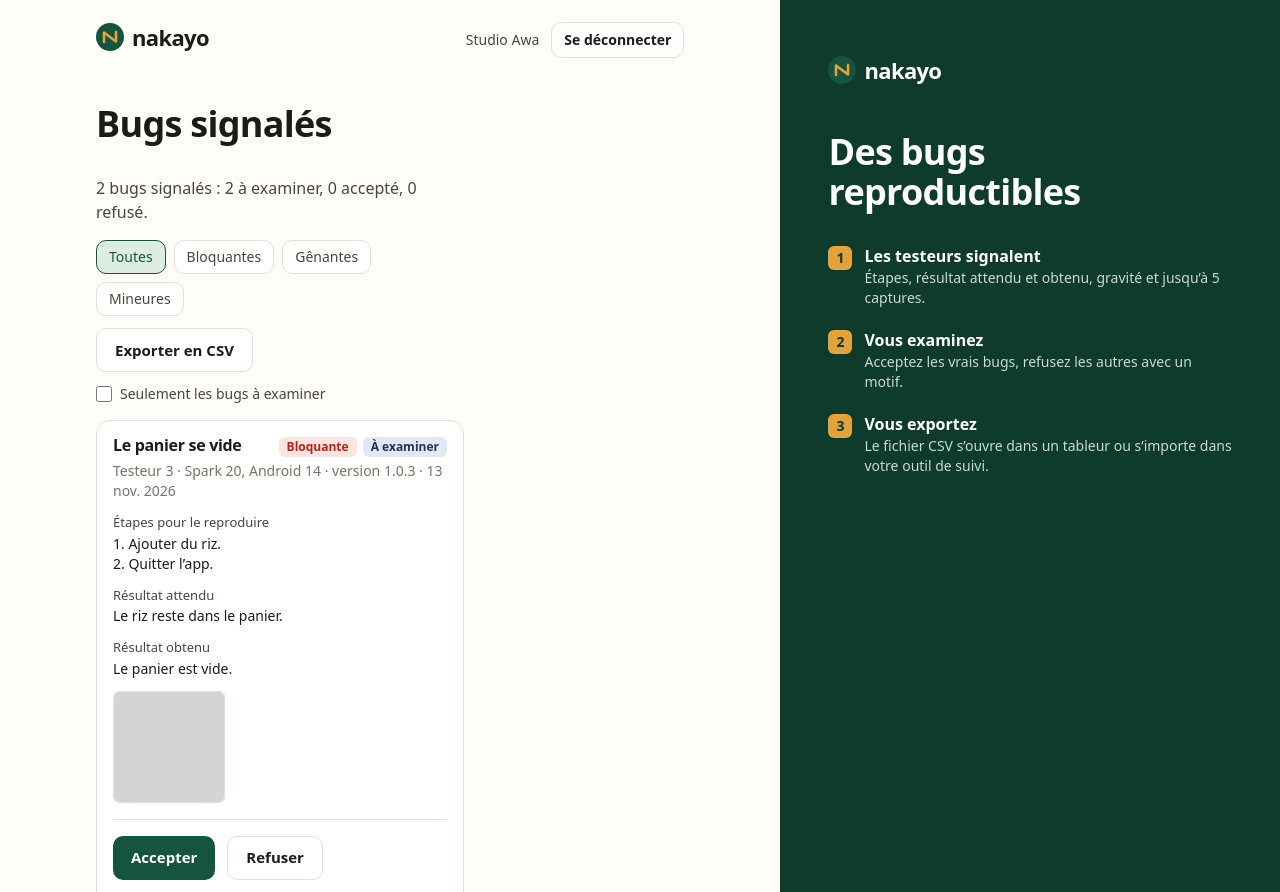
Scenario: Bugs signalés (US-34) › accepter met le bug à jour sans recharger la page
This screenshot has width=1280, height=892.
Click the button with aria-label "Accepter le bug « Le panier se vide »" at (164, 858), box [113,836,215,880]
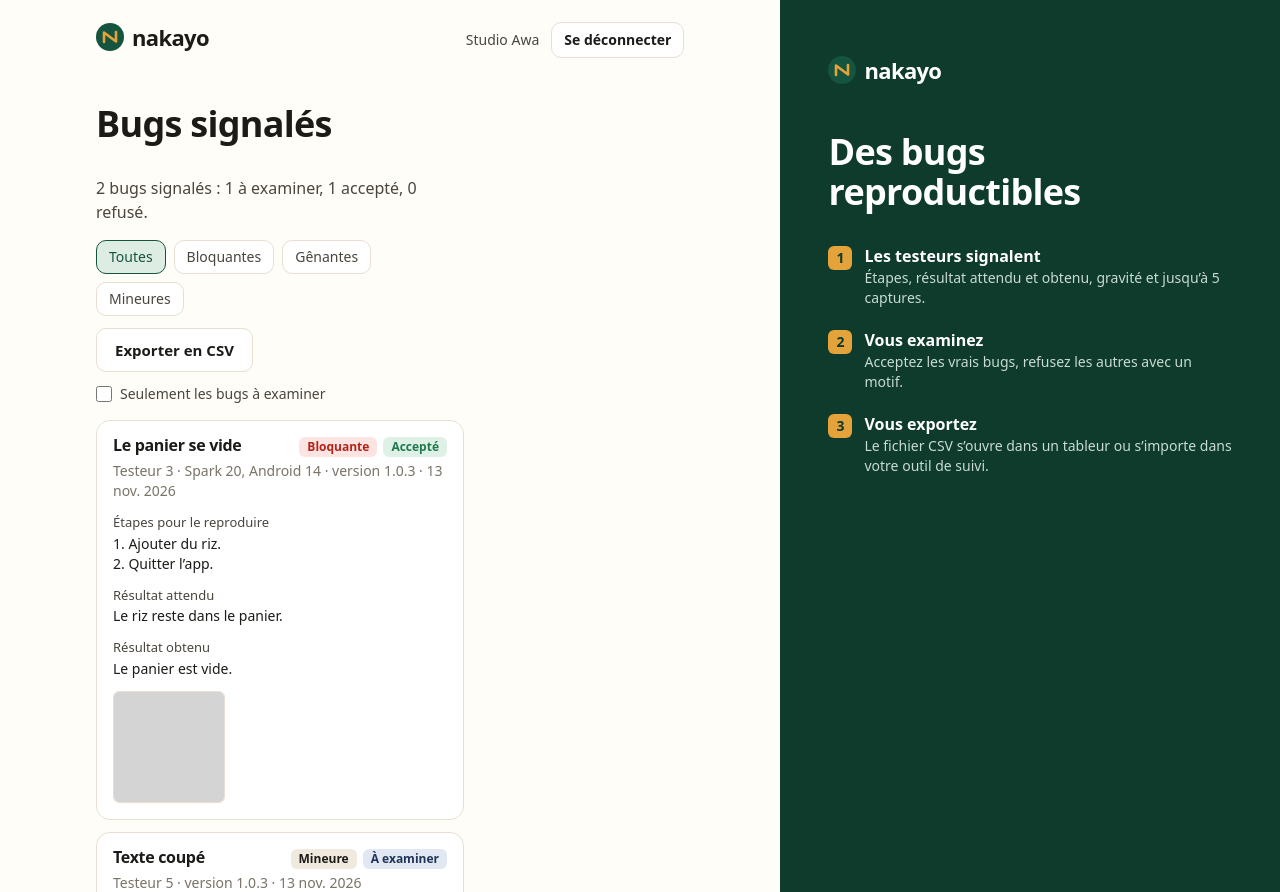
Check: the text "2 bugs signalés : 1 à examiner, 1 accepté, 0 refusé." is shown, box [96,176,464,224]
